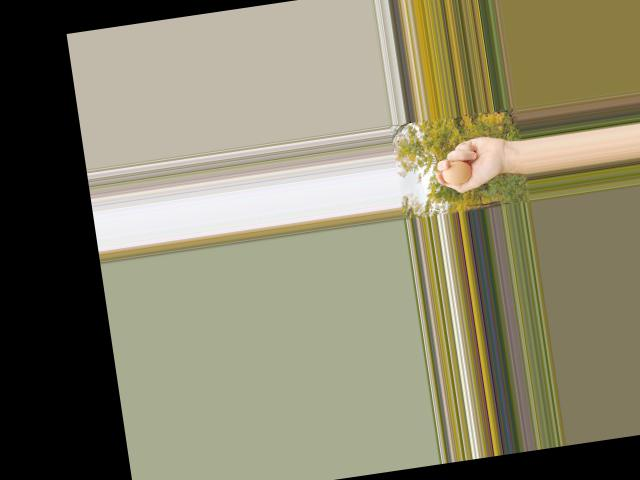egg: (440, 157, 472, 185)
